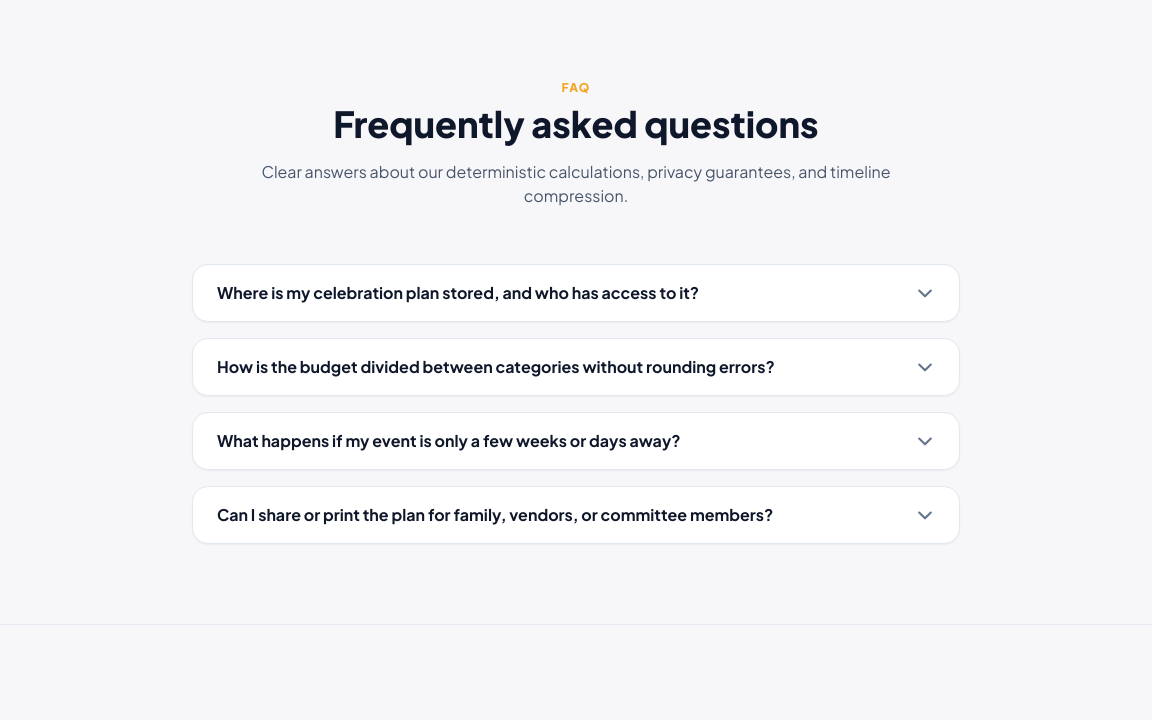
Test: Landing Page Custom Sections › renders FaqSection with all items closed until manually clicked
Expected: the heading "Frequently asked questions" is shown, [333,101,819,146]
Note: Click first question to open
Click the button "Where is my celebration plan stored".
click(576, 293)  # box [193,265,959,321]
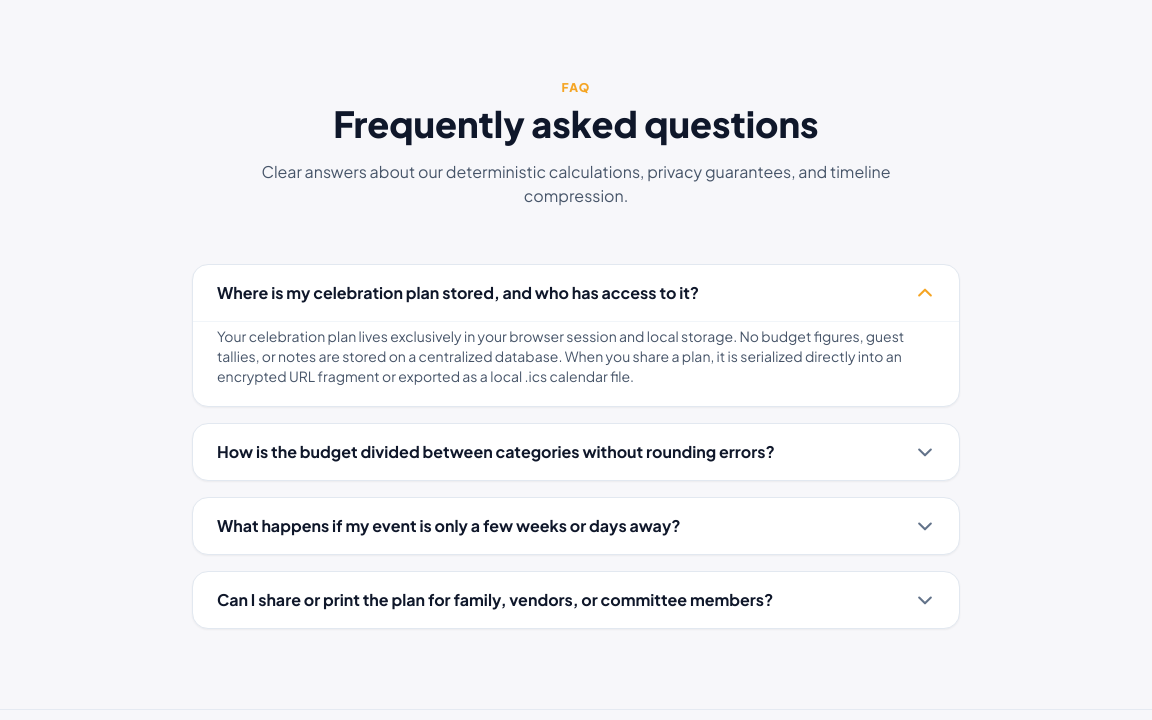
Expected: the button "Where is my celebration plan stored" is expanded, [193,265,959,321]
Note: Click second question opens second and closes first
Click the button "How is the budget divided between categories".
click(576, 452)  # box [193,424,959,480]
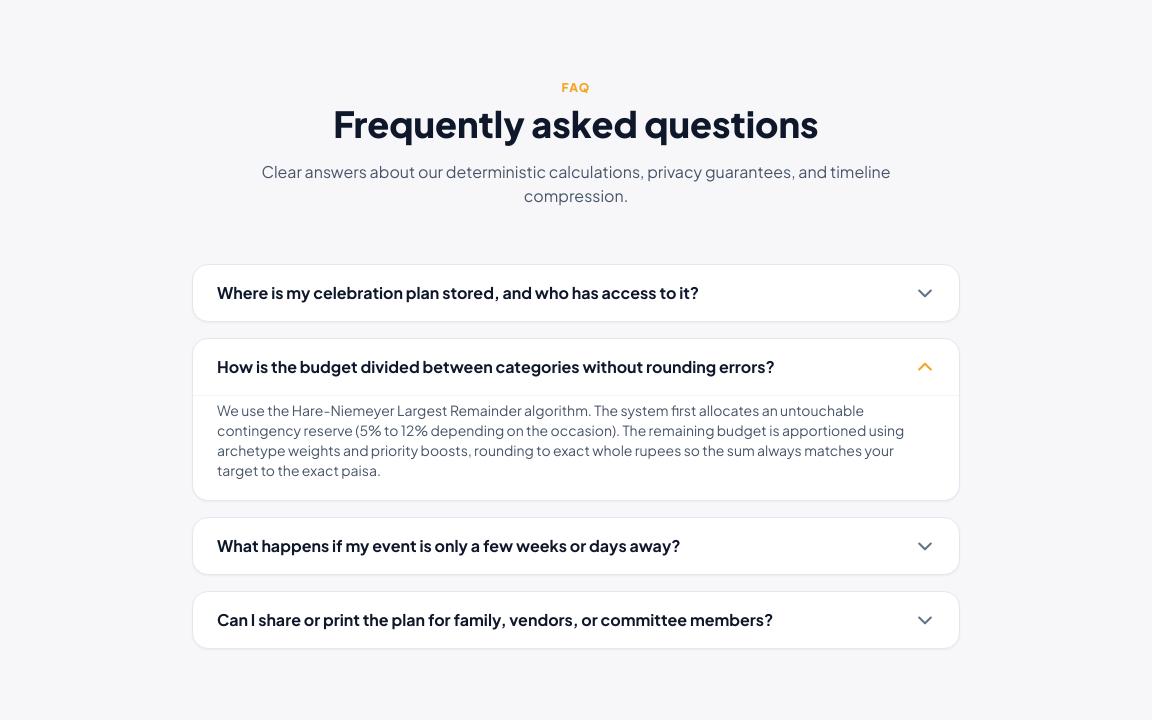
Expected: the button "How is the budget divided between categories" is expanded, [193,339,959,395]
Expected: the button "Where is my celebration plan stored" is collapsed, [193,265,959,321]
